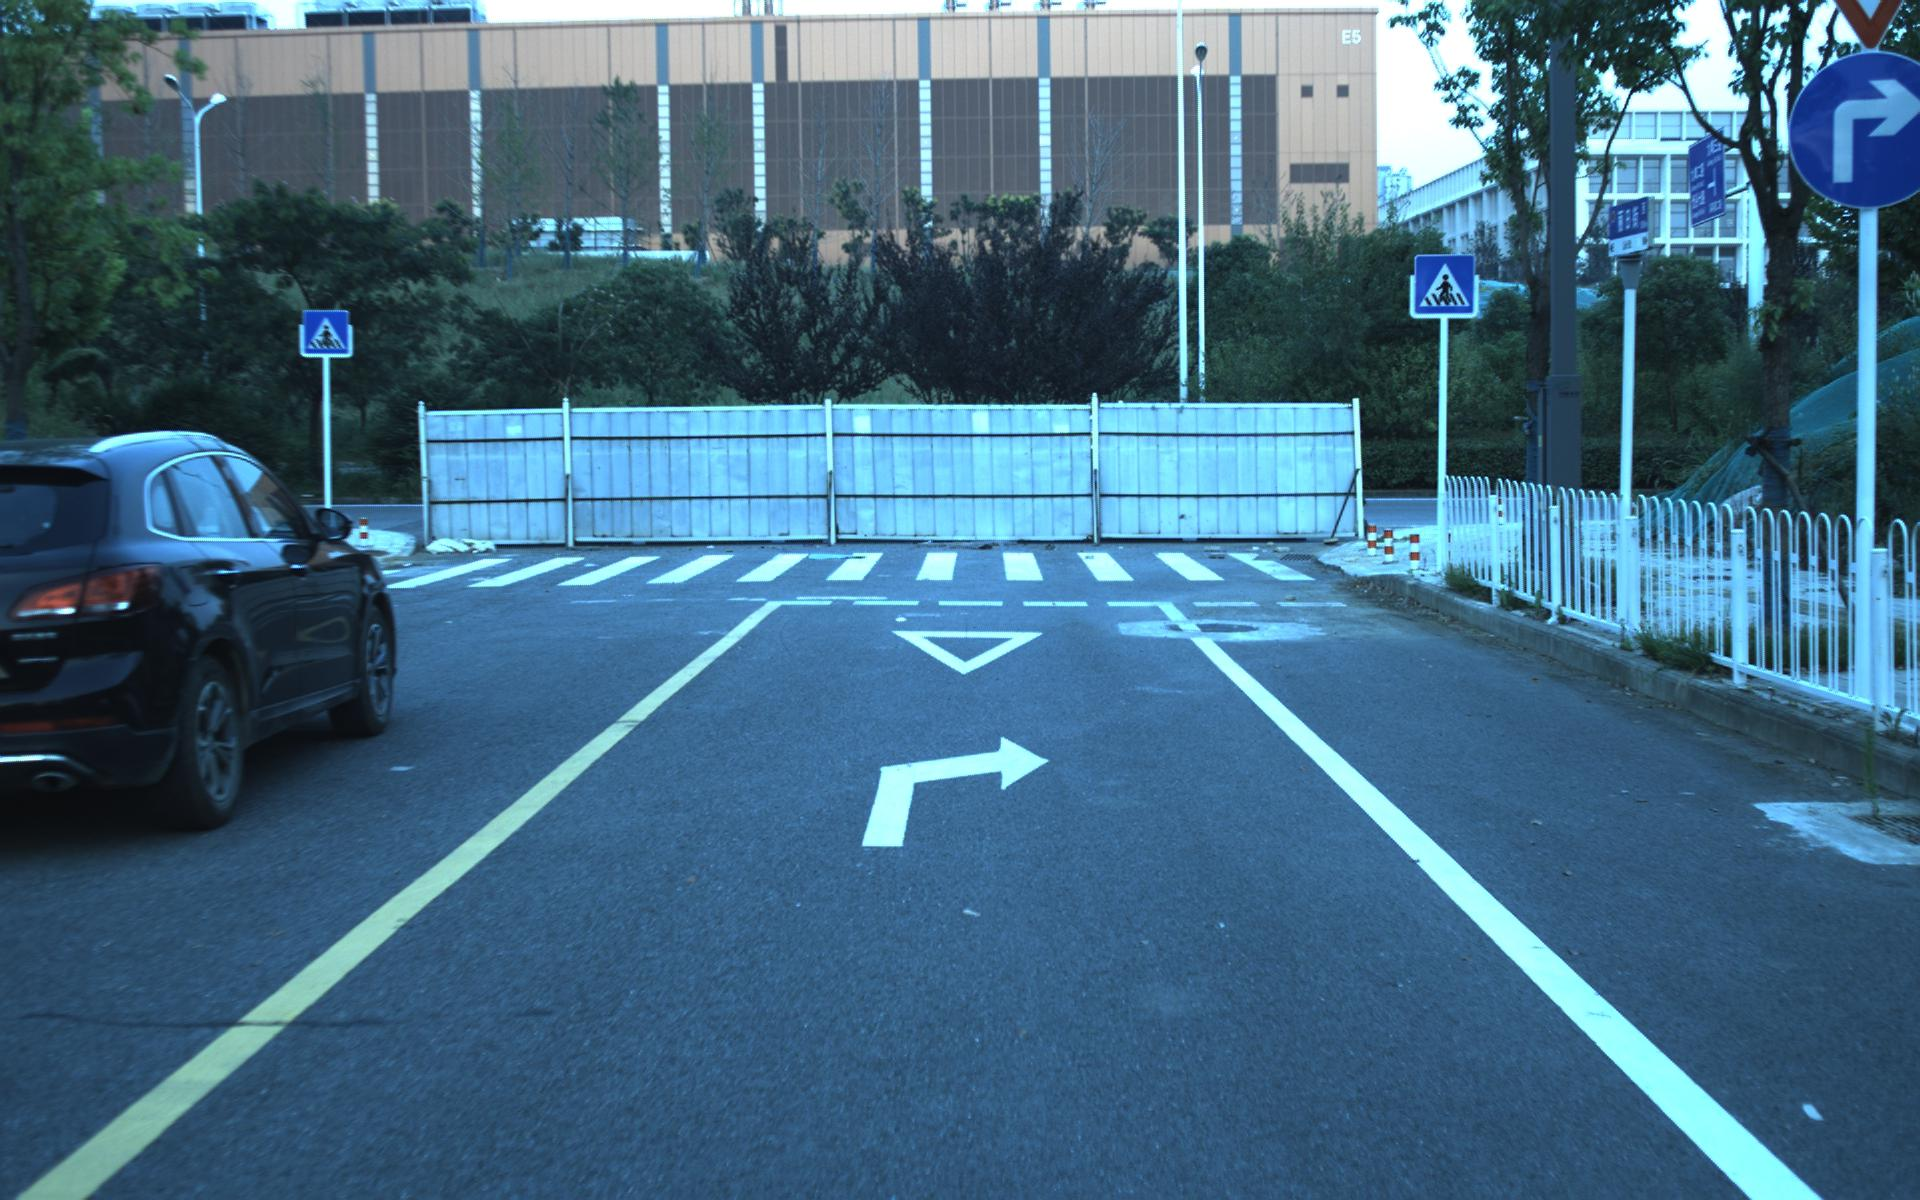Car: (1, 413, 412, 843)
